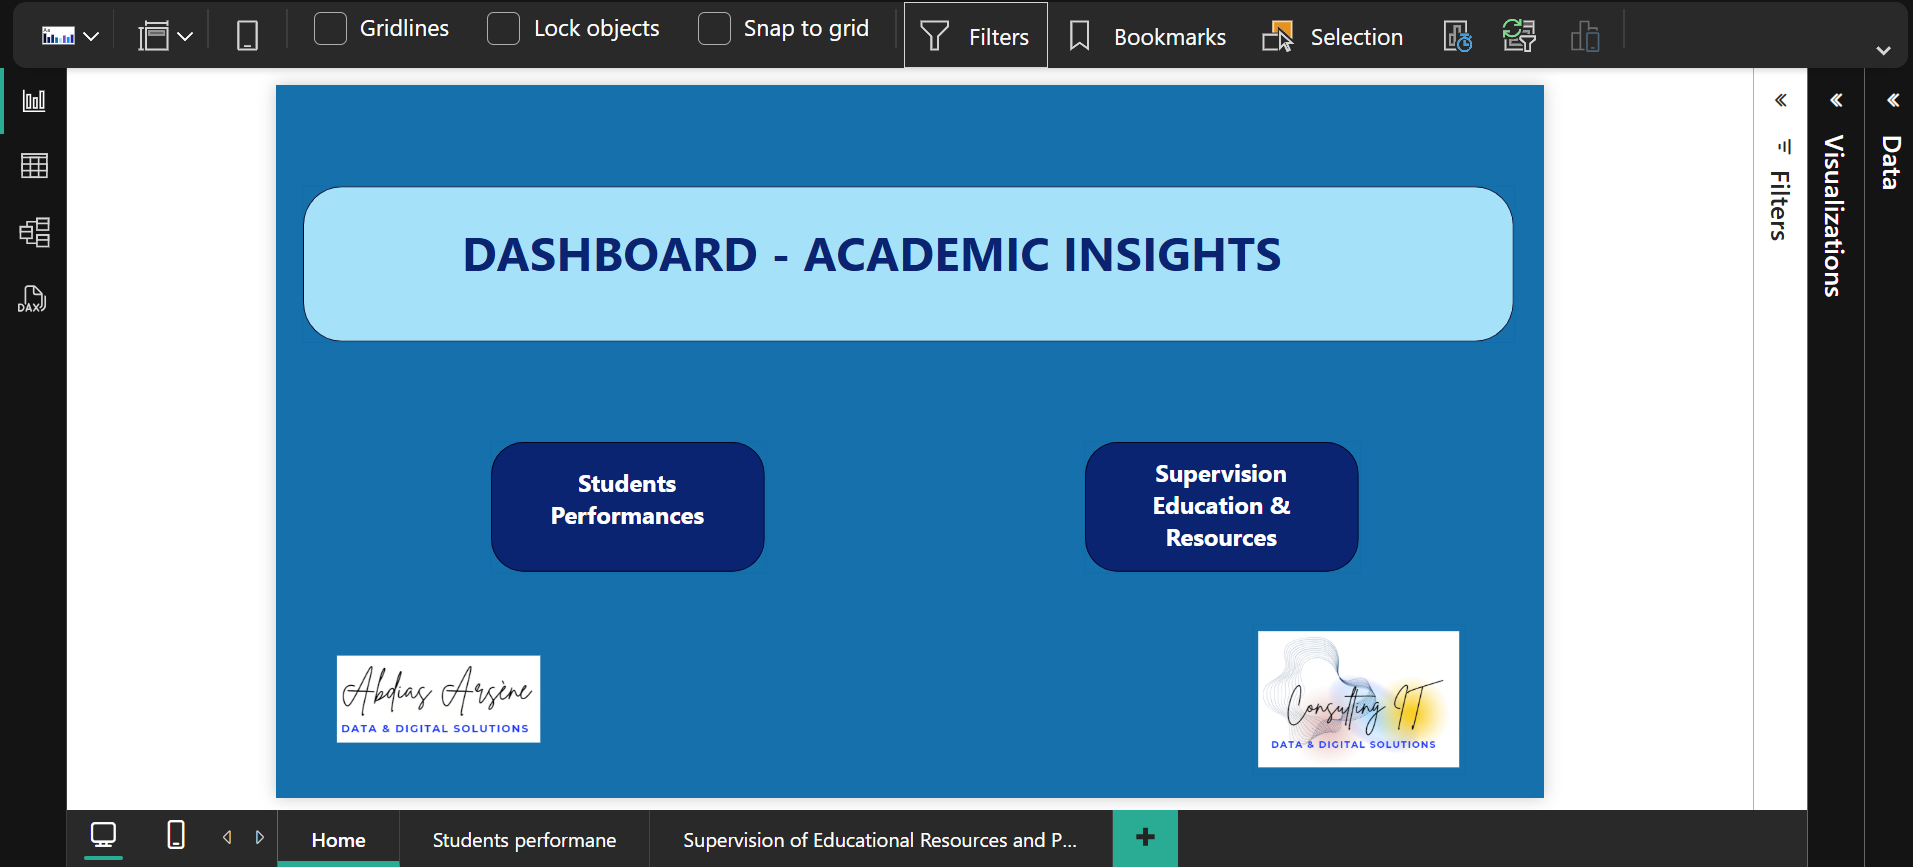

What the dashboard file says about the page in this screenshot:
{"tool":"powerbi","page":{"name":"Home","canvas":[1280,720],"ordinal":0},"visuals":[{"type":"shape","box":[27.3,101.5,1225,159],"z":0},{"type":"textbox","box":[165,131.7,887.3,99.9],"z":1000},{"type":"image","box":[56,533,215,174.1],"z":2000},{"type":"image","box":[987.3,545.1,215,151.4],"z":3000},{"type":"shape","box":[216.5,360.4,278.6,133.3],"z":4000},{"type":"shape","box":[816.2,360.4,278.6,133.3],"z":5000},{"type":"textbox","box":[260.4,380.1,189.3,92.4],"z":6000},{"type":"textbox","box":[860.7,370.7,189.2,113.2],"z":7000}]}

Visuals, with their boxes on the page's 1280x720 design canvas (x1, y1, x2, y2). These are canvas units, not pixel positions in the 1913x867 screenshot, which may show the page scaled, cropped or inside an application window:
shape: pyautogui.locateOnScreen(27, 102, 1252, 260)
textbox: pyautogui.locateOnScreen(165, 132, 1052, 232)
image: pyautogui.locateOnScreen(56, 533, 271, 707)
image: pyautogui.locateOnScreen(987, 545, 1202, 696)
shape: pyautogui.locateOnScreen(216, 360, 495, 494)
shape: pyautogui.locateOnScreen(816, 360, 1095, 494)
textbox: pyautogui.locateOnScreen(260, 380, 450, 472)
textbox: pyautogui.locateOnScreen(861, 371, 1050, 484)
